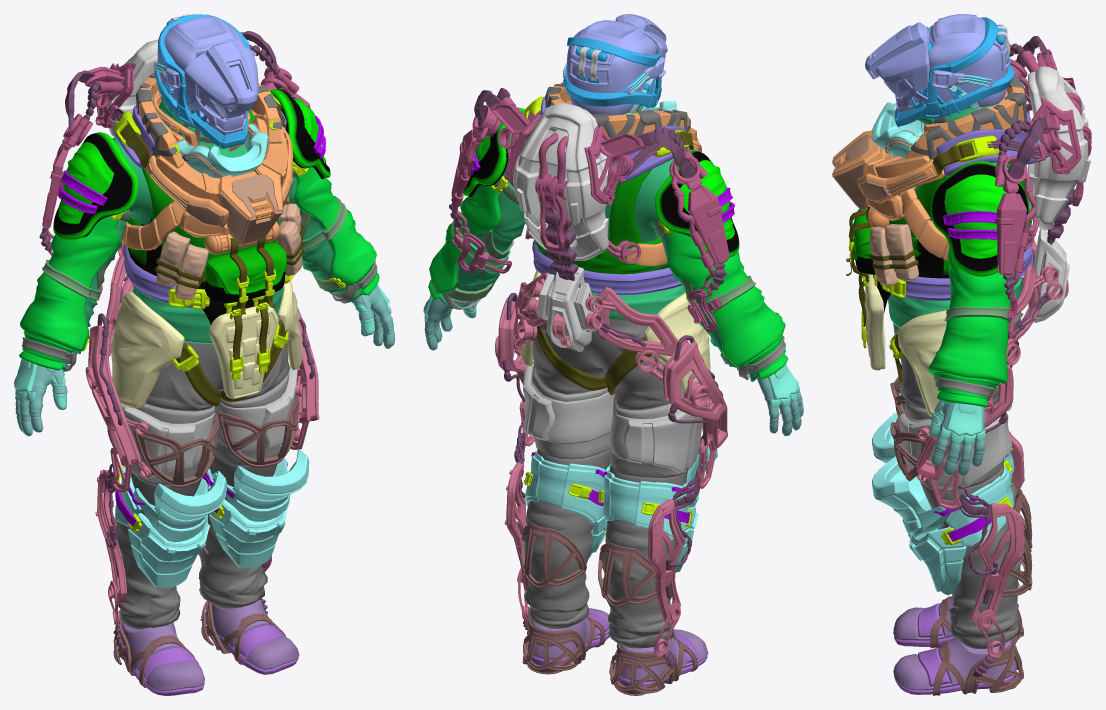
The model's file is solderbestnew.fbx.
The picture shows the model from 3 angles, left to right: view 1: azimuth 30°, elevation 25°; view 2: azimuth 150°, elevation 25°; view 3: azimuth 270°, elevation 25°; orthographic projection.
Parts seen in each view (by area): view 1: polySurface596, polySurface597, white_armor, leg_ARmor, polySurface641, pCube136, polySurface282, pCube119, Face_mask, polySurface479, polySurface620, polySurface547 (+20 smaller); view 2: polySurface596, polySurface597, polySurface641, polySurface620, polySurface600, leg_ARmor, polySurface598, pCube136, EXo_feat, polySurface479, polySurface282, polySurface603 (+15 smaller); view 3: polySurface597, polySurface596, white_armor, polySurface641, leg_ARmor, polySurface620, pCube136, polySurface282, polySurface600, polySurface598, Face_mask, polySurface599 (+28 smaller).
Boxes of the visible parts, x1,y1,x2,y2 form: polySurface596: (114,323,297,629); polySurface597: (19,97,379,371); white_armor: (121,77,293,254); leg_ARmor: (115,449,309,587); polySurface641: (85,242,319,627); pCube136: (53,89,330,239); polySurface282: (118,599,299,695); pCube119: (111,280,301,408); Face_mask: (184,42,258,135); polySurface479: (14,283,394,436); polySurface620: (42,63,310,298); polySurface547: (209,304,278,399); polySurface596: (523,319,706,648); polySurface597: (428,105,787,381); polySurface641: (495,272,727,656); polySurface620: (451,97,729,332); polySurface600: (513,102,608,260); leg_ARmor: (524,446,718,572); polySurface598: (566,20,656,115); pCube136: (463,107,739,256); EXo_feat: (522,619,678,695); polySurface479: (423,292,803,436); polySurface282: (527,608,708,686); polySurface603: (537,267,597,351); polySurface597: (888,106,1022,406); polySurface596: (893,312,1023,648); white_armor: (832,86,1025,261); polySurface641: (916,240,1063,657); leg_ARmor: (872,413,1014,595); polySurface620: (994,49,1091,339); pCube136: (931,161,1029,276); polySurface282: (893,595,1016,694); polySurface600: (1027,66,1090,229); polySurface598: (909,14,1010,110); Face_mask: (865,22,929,112); polySurface599: (895,17,1014,126).
Bounding box in the file's own units: 10.64 × 17.53 × 6.45.
